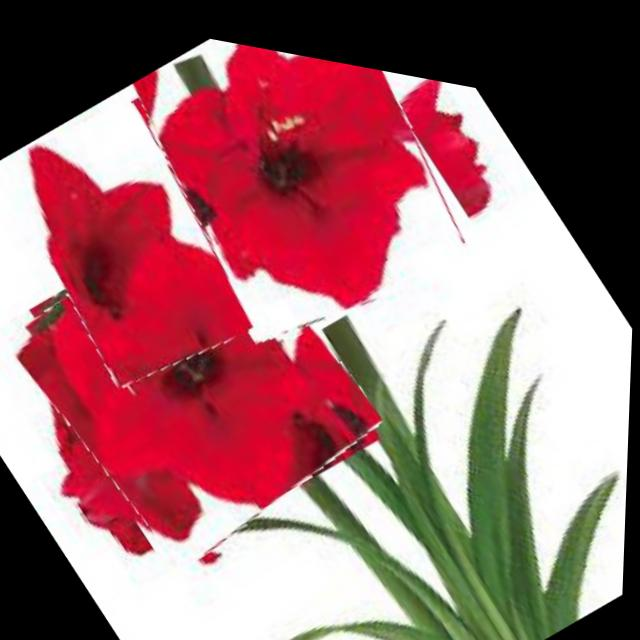Flower: (0, 145, 402, 600), (104, 17, 502, 385), (0, 70, 276, 410)
